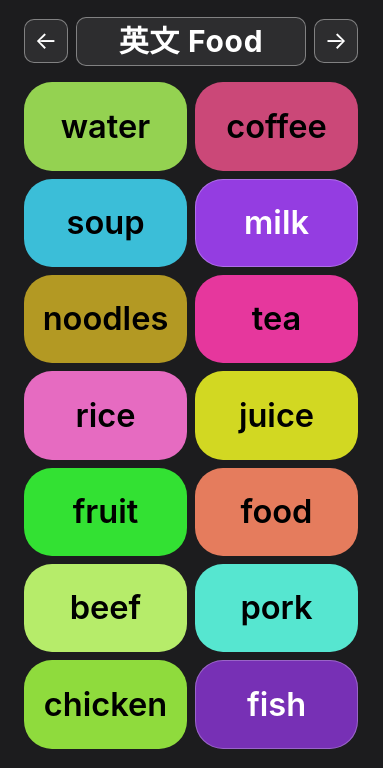
Test: navigates through all five pages with arrows
This screenshot has width=383, height=768.
Earlier steps of the test are not shown.
expect the heading "英文 Food" is shown: met, box [76,25,306,58]
expect the button "water" is shown: met, box [24,82,187,171]
Click the button named "Next page" at (336, 41), box [314,19,358,63]
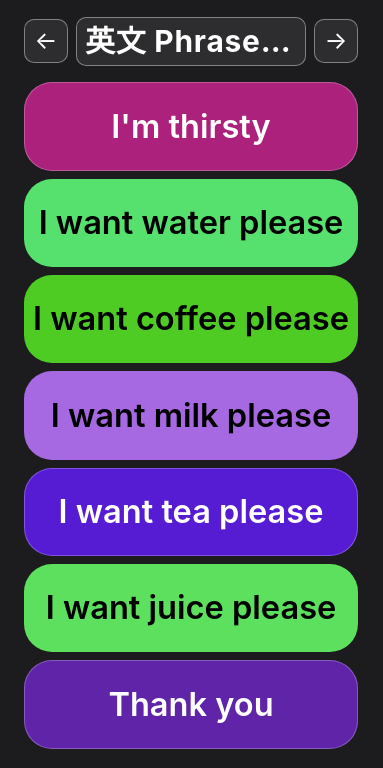
expect the heading "英文 Phrases 2" is shown: met, box [76,25,306,58]
expect the button "I'm thirsty" is shown: met, box [24,82,358,171]
expect the button "I want water please" is shown: met, box [24,179,358,267]
Click the button named "Next page" at (336, 41), box [314,19,358,63]
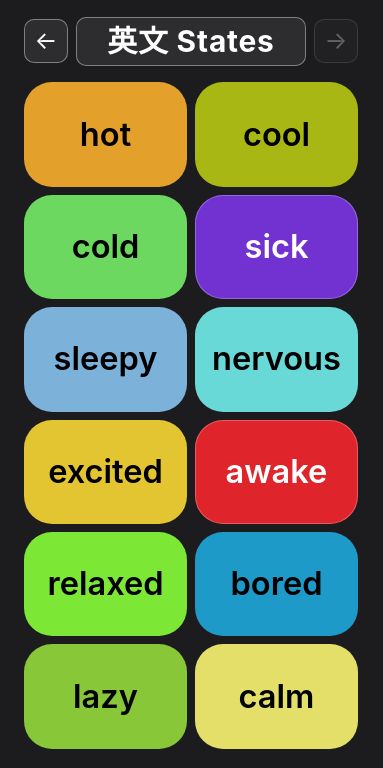
expect the heading "英文 States" is shown: met, box [76,25,306,58]
expect the button "hot" is shown: met, box [24,82,187,187]
expect the button "cool" is shown: met, box [195,82,358,187]
Click the button named "Previous page" at (46, 41), box [24,19,68,63]
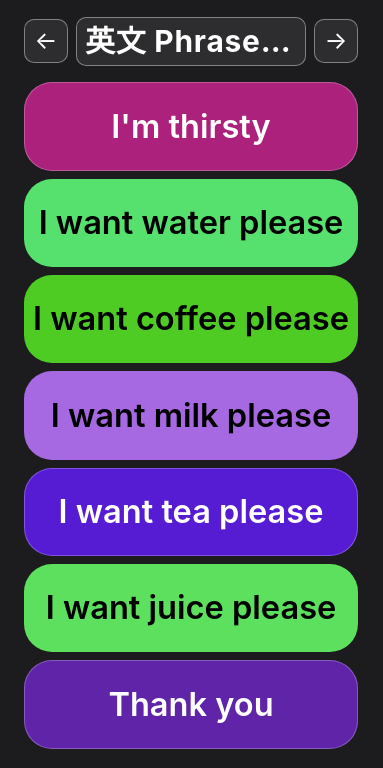
expect the heading "英文 Phrases 2" is shown: met, box [76,25,306,58]
expect the button named "Next page" is enabled: met, box [314,19,358,63]
Click the button named "Previous page" at (46, 41), box [24,19,68,63]
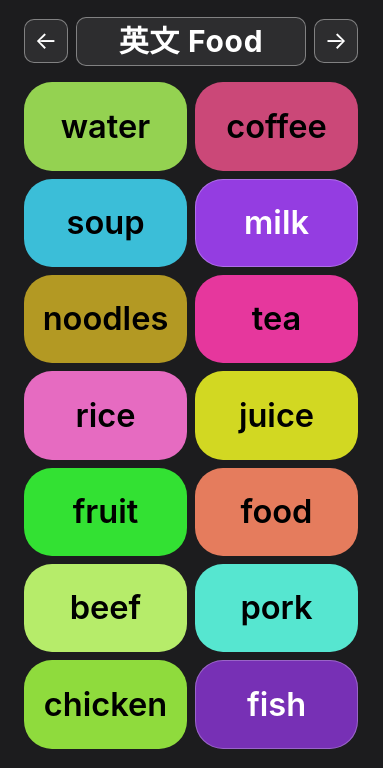
expect the button named "Next page" is enabled: met, box [314,19,358,63]
expect the heading "英文 Food" is shown: met, box [76,25,306,58]
Click the button named "Previous page" at (46, 41), box [24,19,68,63]
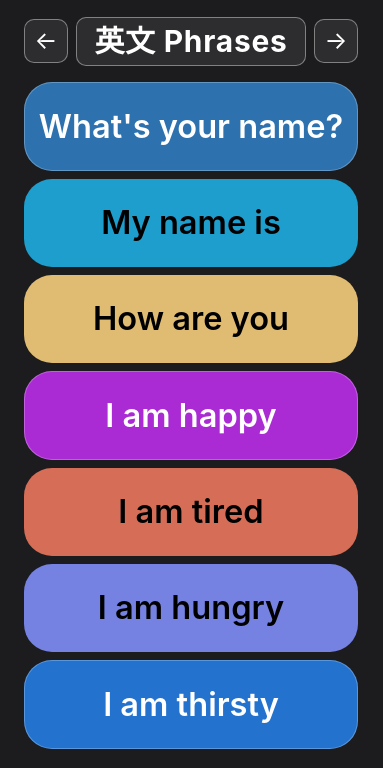
expect the button named "Next page" is enabled: met, box [314,19,358,63]
expect the heading "英文 Phrases" is shown: met, box [76,25,306,58]
Click the button named "Previous page" at (46, 41), box [24,19,68,63]
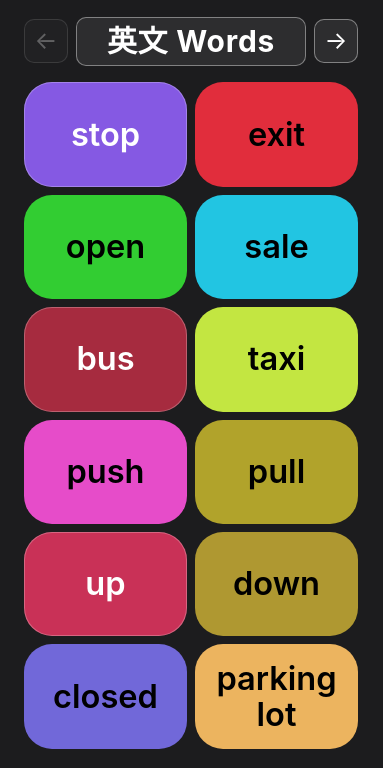
expect the heading "英文 Words" is shown: met, box [76,25,306,58]
expect the button "stop" is shown: met, box [24,82,187,187]
expect the button named "Previous page" is disabled: met, box [24,19,68,63]
